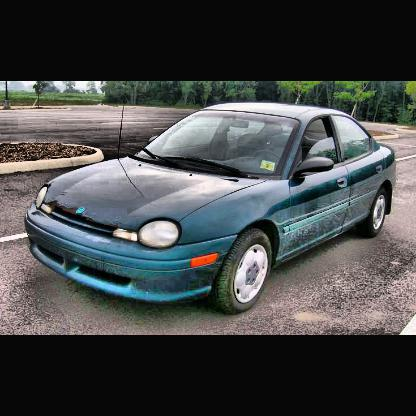Plymouth Neon Coupe 1999: (24, 103, 399, 315)
